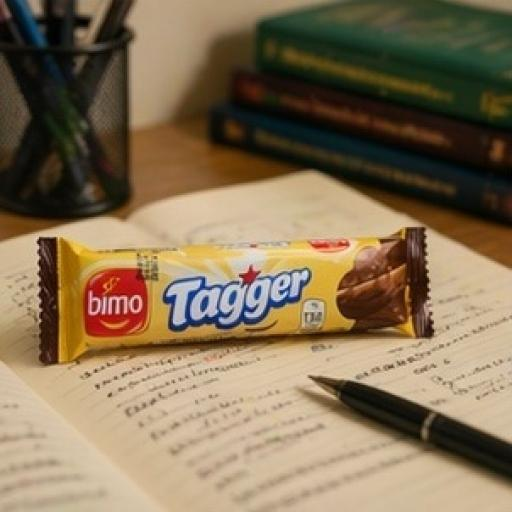tagger: (5, 175, 475, 389)
